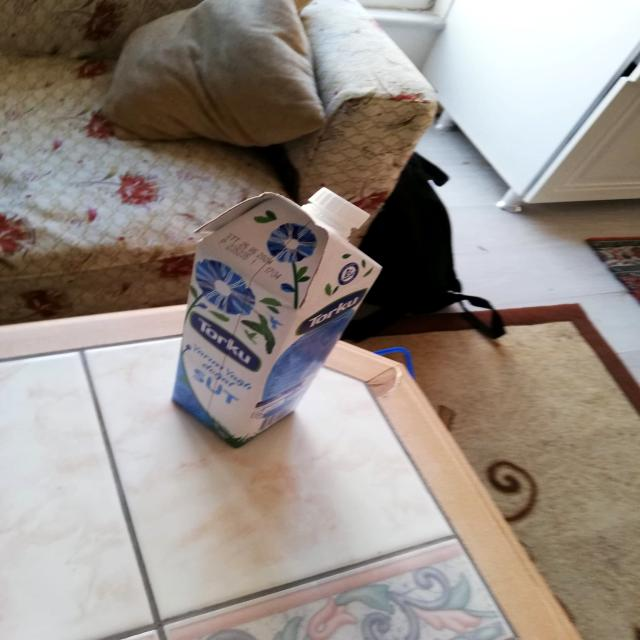milk: (160, 178, 389, 449)
